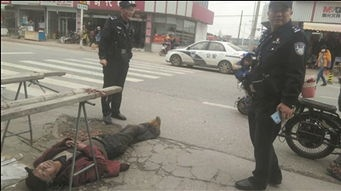falling: (25, 109, 162, 191)
